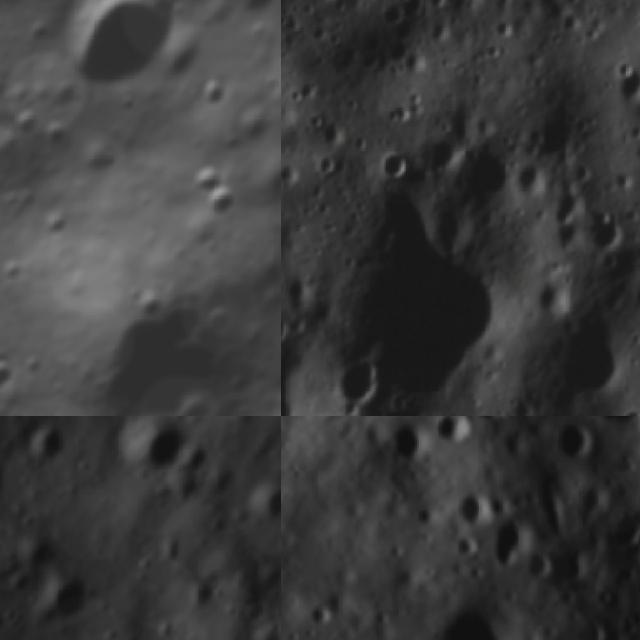crater: (50, 219, 279, 416), (343, 185, 517, 404), (39, 0, 212, 119), (527, 310, 632, 413), (405, 577, 549, 640), (104, 416, 213, 497), (472, 486, 560, 575), (522, 521, 610, 597), (31, 551, 111, 633), (163, 145, 234, 213), (185, 171, 253, 240), (456, 130, 513, 202), (376, 416, 442, 476), (13, 416, 79, 474), (546, 416, 607, 474), (334, 354, 386, 414), (531, 100, 578, 163), (240, 459, 281, 531), (229, 584, 281, 638), (429, 416, 485, 454), (217, 0, 281, 33), (180, 568, 225, 614), (589, 203, 628, 254), (537, 274, 574, 323), (424, 132, 465, 176), (302, 593, 344, 634), (0, 342, 26, 405), (566, 610, 617, 640), (378, 142, 413, 182), (516, 153, 546, 196), (613, 65, 640, 108), (286, 270, 317, 305), (472, 416, 519, 437), (293, 74, 324, 105), (427, 14, 456, 46), (377, 0, 410, 28), (314, 149, 343, 180), (489, 14, 517, 43), (388, 34, 414, 63), (573, 160, 598, 185), (281, 311, 293, 343), (428, 0, 454, 11), (620, 402, 640, 416), (393, 0, 415, 8)
